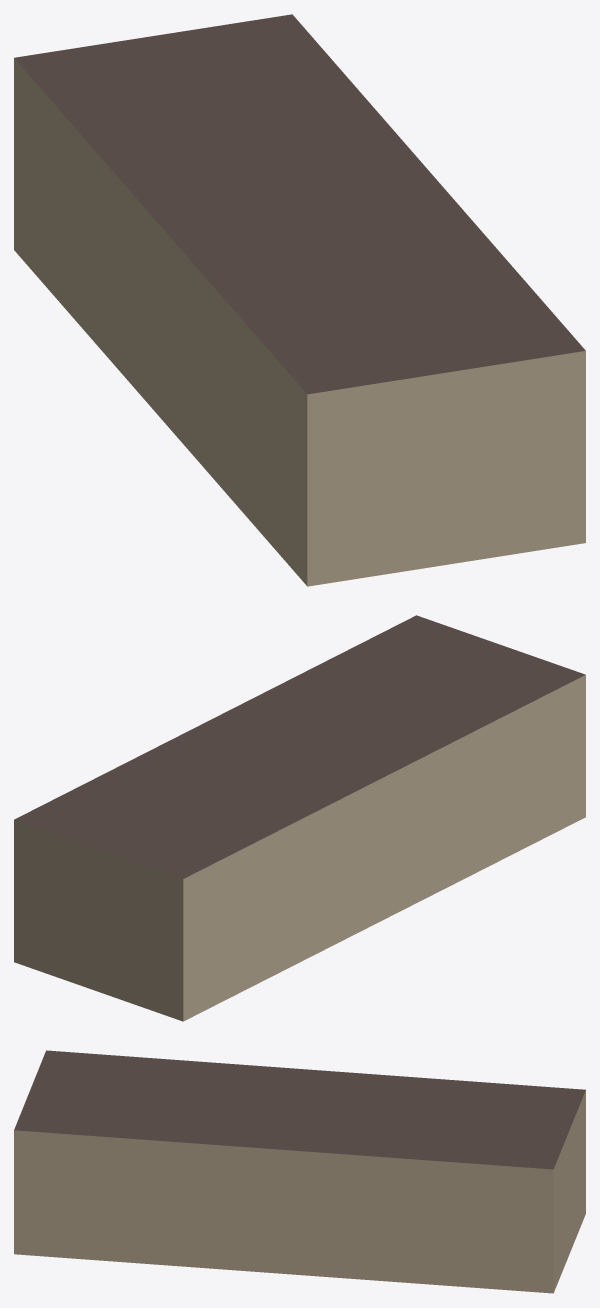
The picture shows the model from 3 angles, top to bottom: view 1: azimuth 30°, elevation 25°; view 2: azimuth 150°, elevation 25°; view 3: azimuth 270°, elevation 25°; orthographic projection. The views are drawn at different scales.
Visible parts, largest first — view 1: HP-w1233759520; view 2: HP-w1233759520; view 3: HP-w1233759520.
Part boxes in pixels (x1,y1,x2,y2): HP-w1233759520: (14, 14, 585, 586); HP-w1233759520: (14, 615, 585, 1021); HP-w1233759520: (14, 1050, 585, 1293).
Size of the model in its own units: 18.53 by 9 by 37.62.
